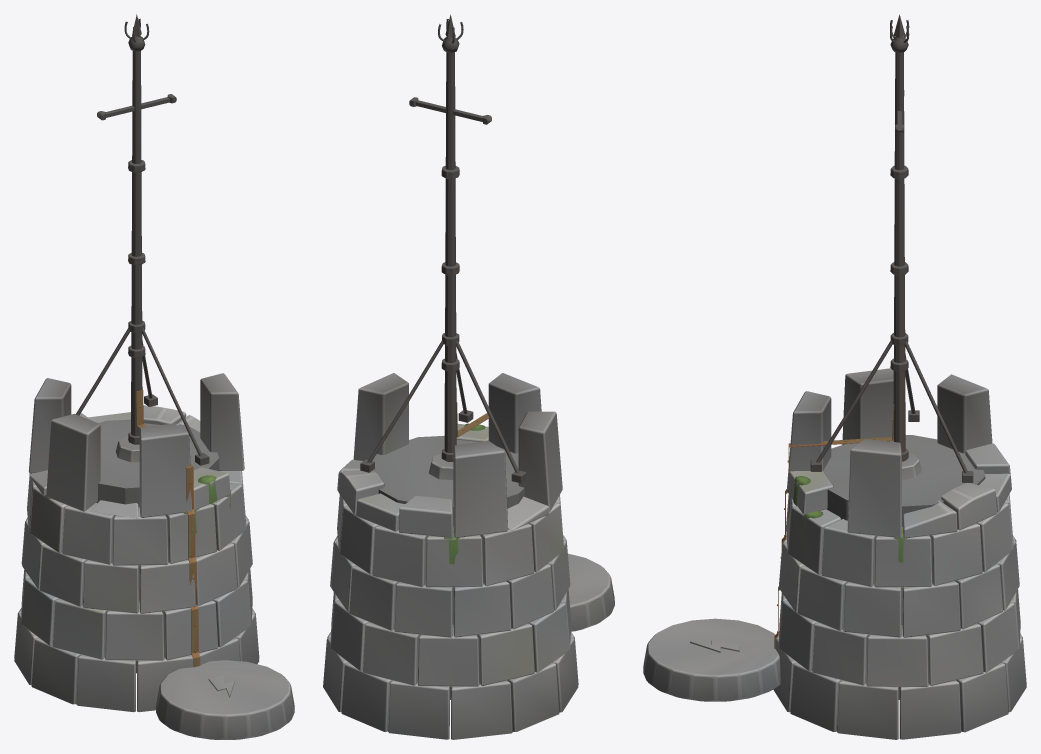
Rendered from mech_rod.glb.
The picture shows the model from 3 angles, left to right: view 1: azimuth 30°, elevation 25°; view 2: azimuth 150°, elevation 25°; view 3: azimuth 270°, elevation 25°; orthographic projection. The views are drawn at different scales.
Parts seen in each view (by area): view 1: mech_rod_LOD0; view 2: mech_rod_LOD0; view 3: mech_rod_LOD0.
Boxes of the visible parts, bbox=[...] form: mech_rod_LOD0: bbox=[14, 14, 294, 739]; mech_rod_LOD0: bbox=[323, 14, 614, 739]; mech_rod_LOD0: bbox=[643, 14, 1026, 739].
Size of what is drawn, in the model's own units: 3.6 by 10.47 by 5.42.
